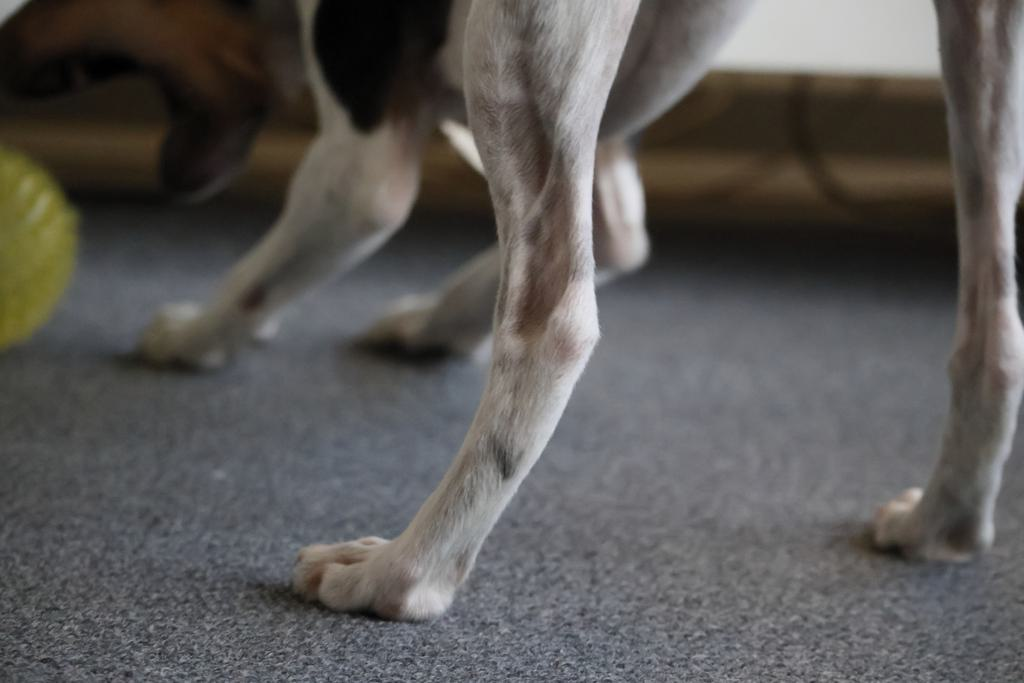Dog: (0, 0, 1024, 630)
